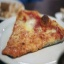pizza: (1, 10, 62, 56)
